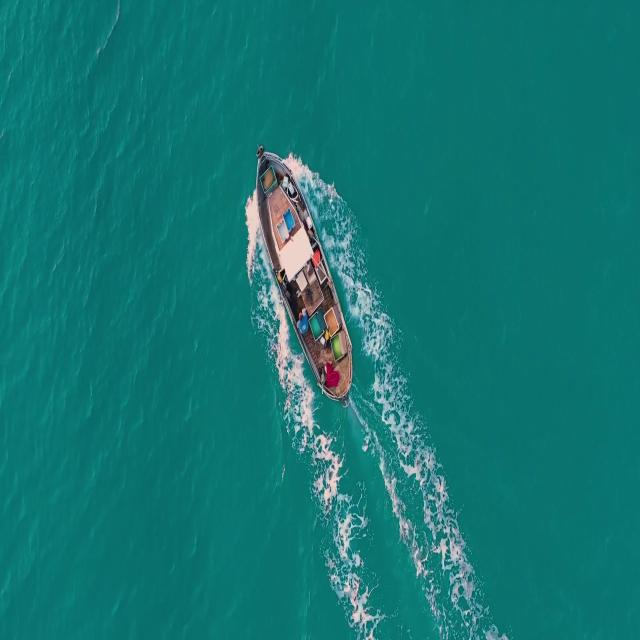ship: (252, 148, 356, 405)
